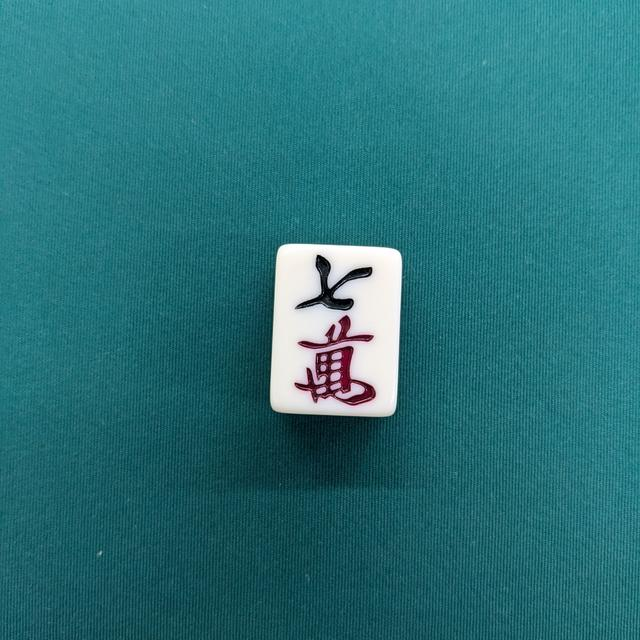7m: (272, 240, 399, 420)
